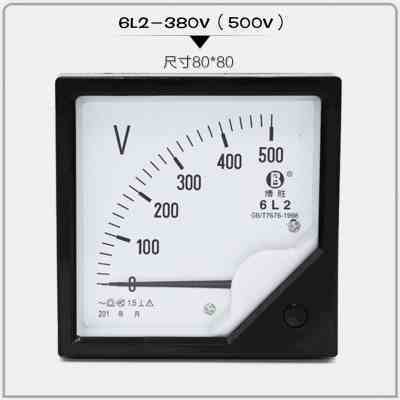pointer: (73, 95, 320, 339)
